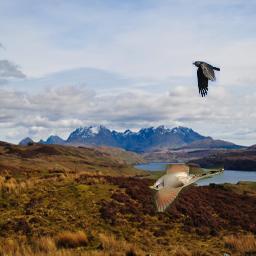Crow: (192, 61, 220, 97)
Cuckoo: (148, 164, 224, 212)
